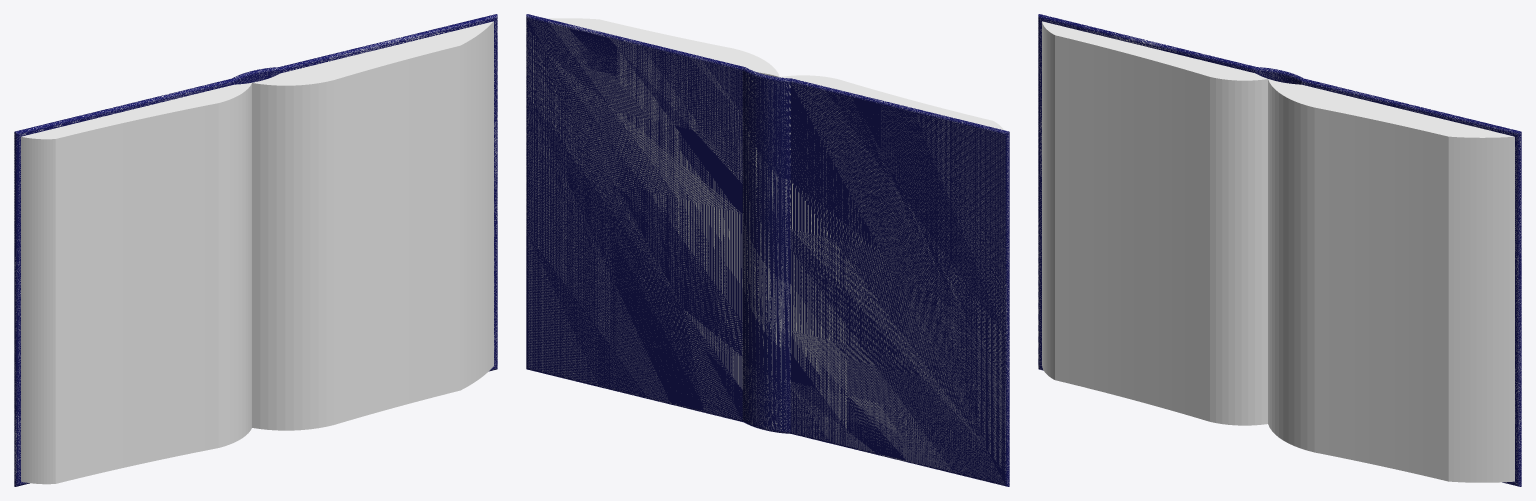
The picture shows the model from 3 angles, left to right: view 1: azimuth 30°, elevation 25°; view 2: azimuth 150°, elevation 25°; view 3: azimuth 330°, elevation 25°; orthographic projection.
Parts seen in each view (by area): view 1: opened hard back book; view 2: opened hard back book; view 3: opened hard back book.
Part boxes in pixels (x1,y1,x2,y2): opened hard back book: (14, 14, 497, 486); opened hard back book: (526, 14, 1009, 486); opened hard back book: (1038, 14, 1521, 486).
Size of the model in its own units: 398 by 280 by 36.78.
